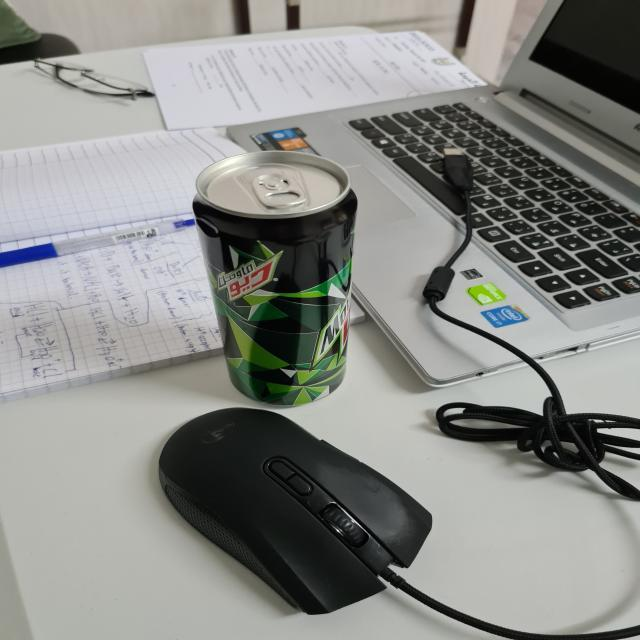can: (189, 145, 358, 407)
